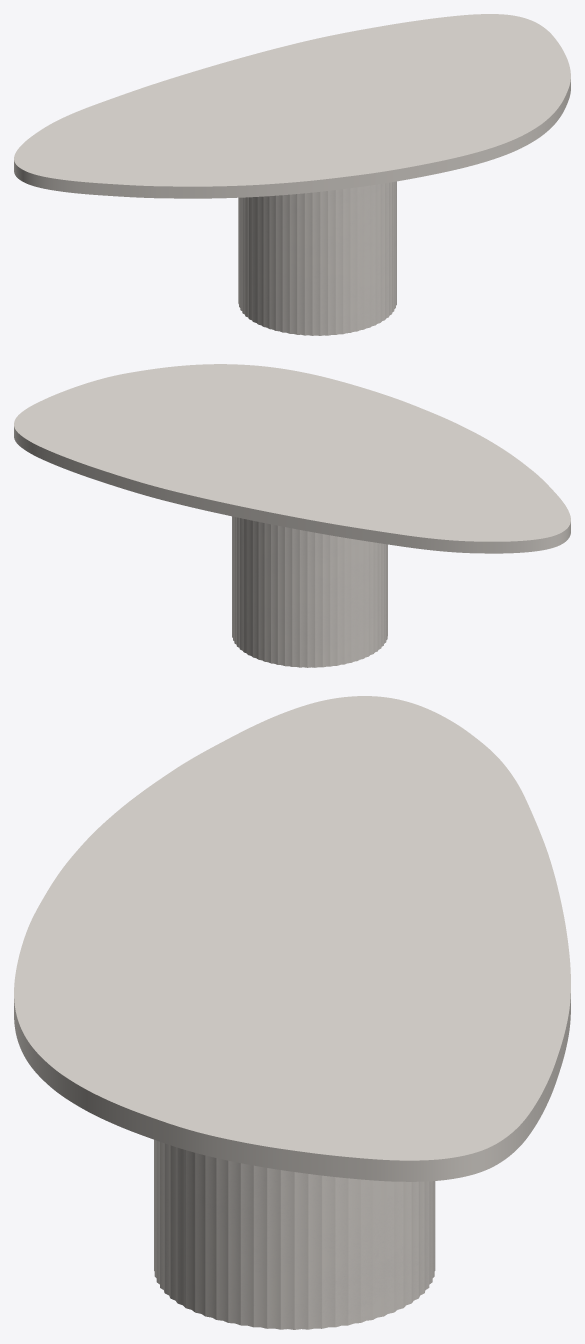
Rendered from pearlwhite_pebbletop_standard_ripple.glb.
3 renders of one model, top to bottom at view 1: azimuth 30°, elevation 25°; view 2: azimuth 150°, elevation 25°; view 3: azimuth 270°, elevation 25°, orthographic. The views are drawn at different scales.
Visible parts, largest first — view 1: standard_pebbletop, ripple; view 2: standard_pebbletop, ripple; view 3: standard_pebbletop, ripple.
Part boxes in pixels (x1=…): standard_pebbletop: x1=14, y1=14, x2=570, y2=198; ripple: x1=238, y1=181, x2=396, y2=335; standard_pebbletop: x1=14, y1=364, x2=570, y2=553; ripple: x1=232, y1=516, x2=387, y2=667; standard_pebbletop: x1=14, y1=696, x2=570, y2=1181; ripple: x1=154, y1=1139, x2=435, y2=1329.
Size of the model in its own units: 7.5 by 2.51 by 3.8.
Materials: 1 (1 with a texture image).
